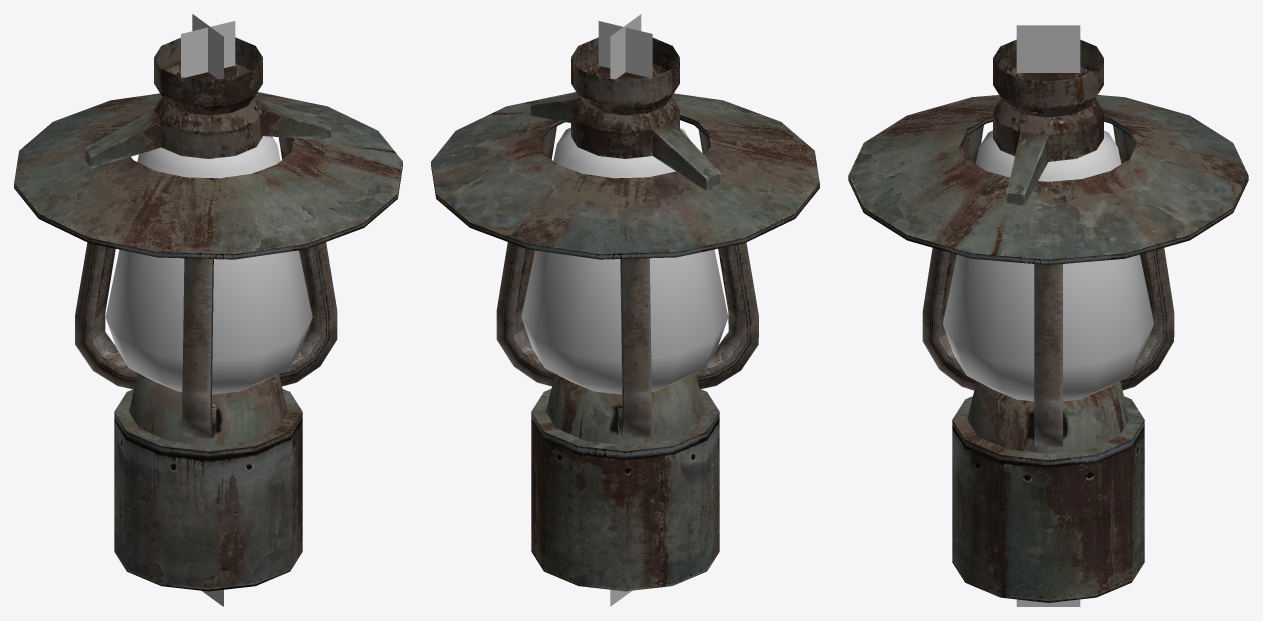
The model's file is cellar_gaslamp.DAE.
The picture shows the model from 3 angles, left to right: view 1: azimuth 30°, elevation 25°; view 2: azimuth 150°, elevation 25°; view 3: azimuth 270°, elevation 25°; orthographic projection. The views are drawn at different scales.
Parts seen in each view (by area): view 1: Box002, Box003, Box007, Box008, Box006; view 2: Box002, Box003, Box007, Box008, Box006; view 3: Box002, Box003, Box007, Box006.
Part boxes in pixels (left/top/right/bottom): Box002: left=14, top=65, right=402, bottom=591; Box003: left=105, top=136, right=312, bottom=394; Box007: left=154, top=37, right=262, bottom=115; Box008: left=181, top=21, right=235, bottom=77; Box006: left=181, top=14, right=235, bottom=606; Box002: left=431, top=65, right=819, bottom=591; Box003: left=521, top=127, right=728, bottom=394; Box007: left=571, top=37, right=679, bottom=115; Box008: left=598, top=21, right=652, bottom=75; Box006: left=598, top=14, right=652, bottom=606; Box002: left=848, top=73, right=1248, bottom=602; Box003: left=943, top=130, right=1153, bottom=401; Box007: left=993, top=39, right=1103, bottom=117; Box006: left=1016, top=25, right=1080, bottom=606.
Size of the model in its own units: 0.6813 by 1.09 by 0.6813.
